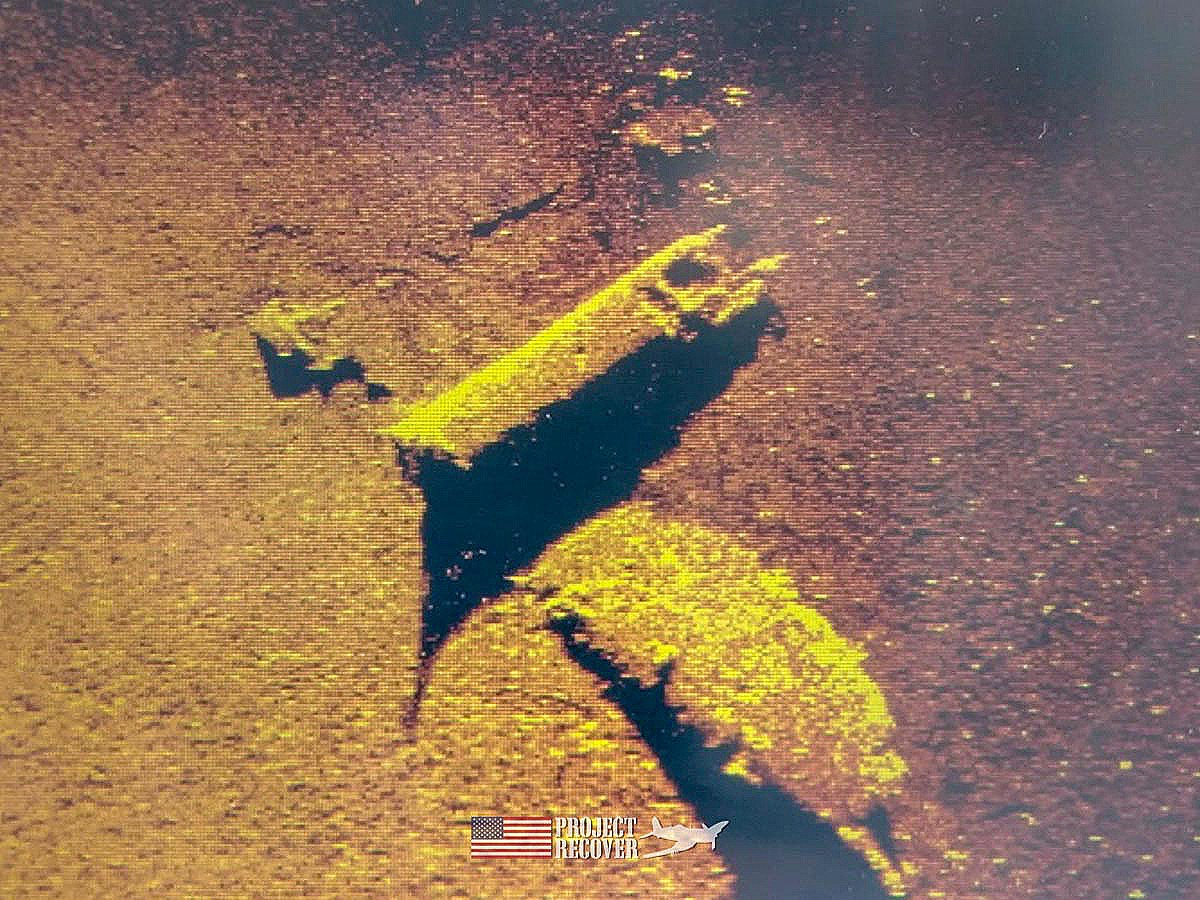aircraft: (242, 219, 965, 898)
